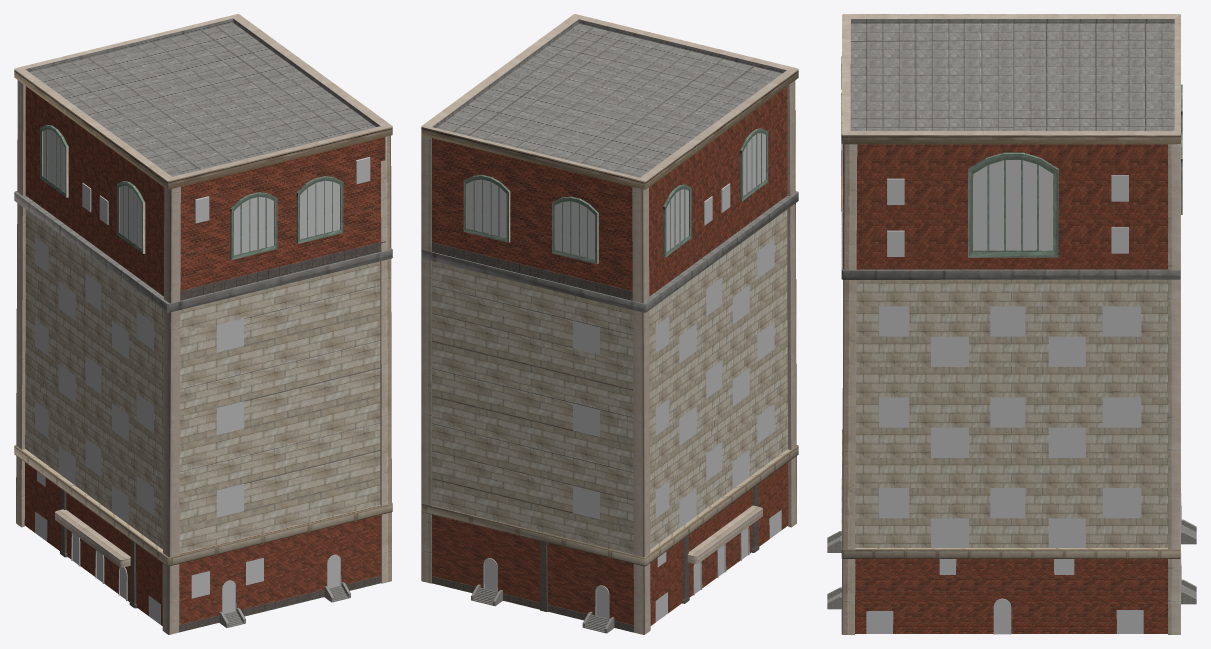
The model's file is House_RedSquare.fbx.
3 renders of one model, left to right at view 1: azimuth 30°, elevation 25°; view 2: azimuth 150°, elevation 25°; view 3: azimuth 270°, elevation 25°, orthographic. The views are drawn at different scales.
Parts seen in each view (by area): view 1: House_RedSquare; view 2: House_RedSquare; view 3: House_RedSquare.
Part boxes in pixels (x1,y1,x2,y2): House_RedSquare: (14,14,392,634); House_RedSquare: (421,14,798,634); House_RedSquare: (827,14,1196,634).
Bounding box in the file's own units: 3138 × 5883 × 3930.
